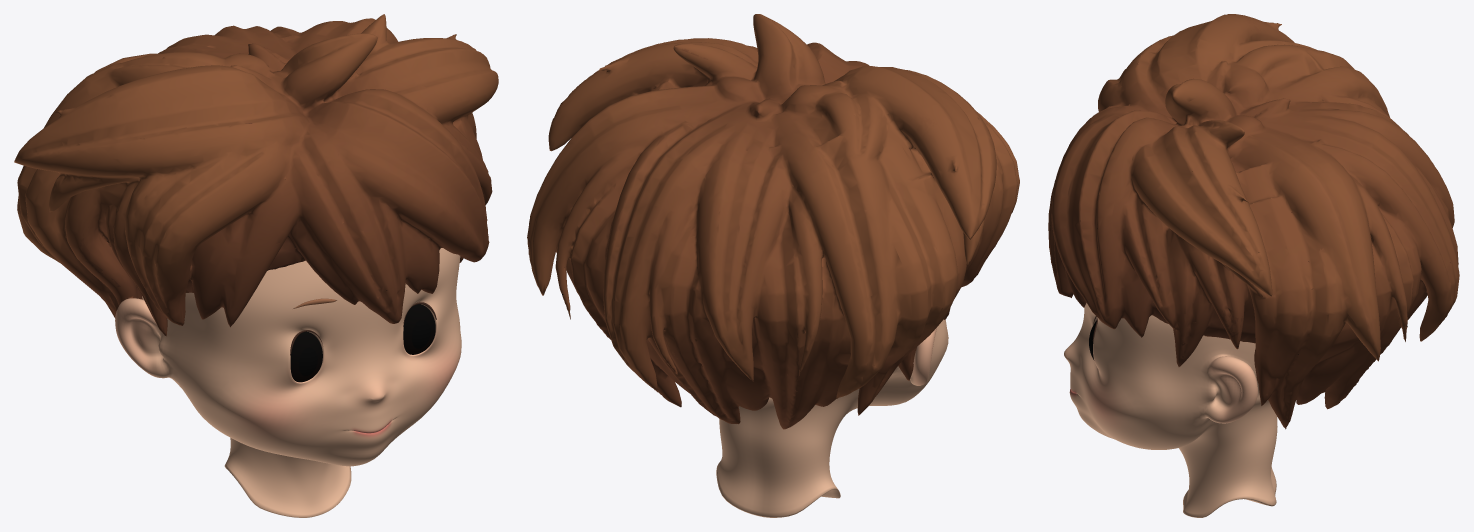
File: head_candidate_v003.glb
The picture shows the model from 3 angles, left to right: view 1: azimuth 30°, elevation 25°; view 2: azimuth 150°, elevation 25°; view 3: azimuth 270°, elevation 25°; orthographic projection. The views are drawn at different scales.
Parts seen in each view (by area): view 1: SCULPT_HAIR, SCULPT_HEAD, SCULPT_EYE_L, SCULPT_EYE_R; view 2: SCULPT_HAIR, SCULPT_HEAD; view 3: SCULPT_HAIR, SCULPT_HEAD.
Part boxes in pixels (box(x1,y1,x2,y2)): SCULPT_HAIR: box(14, 14, 498, 336); SCULPT_HEAD: box(115, 248, 461, 517); SCULPT_EYE_L: box(403, 304, 435, 354); SCULPT_EYE_R: box(290, 331, 322, 382); SCULPT_HAIR: box(527, 14, 1019, 429); SCULPT_HEAD: box(716, 319, 948, 517); SCULPT_HAIR: box(1048, 14, 1459, 429); SCULPT_HEAD: box(1064, 303, 1277, 517).
Size of the model in its own units: 0.4979 by 0.4974 by 0.4188.
Materials: 5 (3 with a texture image).
